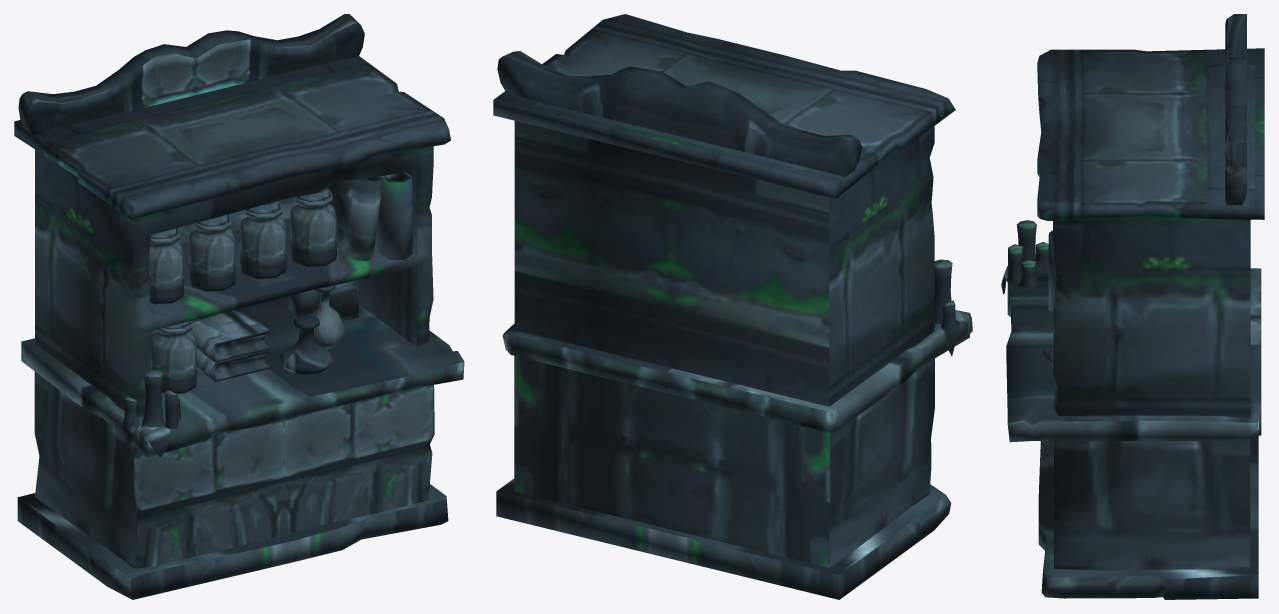
The model's file is guizi.FBX.
3 views of the same model, side by side, from view 1: azimuth 30°, elevation 25°; view 2: azimuth 150°, elevation 25°; view 3: azimuth 270°, elevation 25° (orthographic). The views are drawn at different scales.
Visible parts, largest first — view 1: mesh_humanlife_props_05; view 2: mesh_humanlife_props_05; view 3: mesh_humanlife_props_05.
Part boxes in pixels (left/top/right/bottom): mesh_humanlife_props_05: left=14, top=14, right=464, bottom=599; mesh_humanlife_props_05: left=493, top=14, right=972, bottom=599; mesh_humanlife_props_05: left=1001, top=14, right=1264, bottom=599.
Size of the model in its own units: 310 by 395 by 213.
